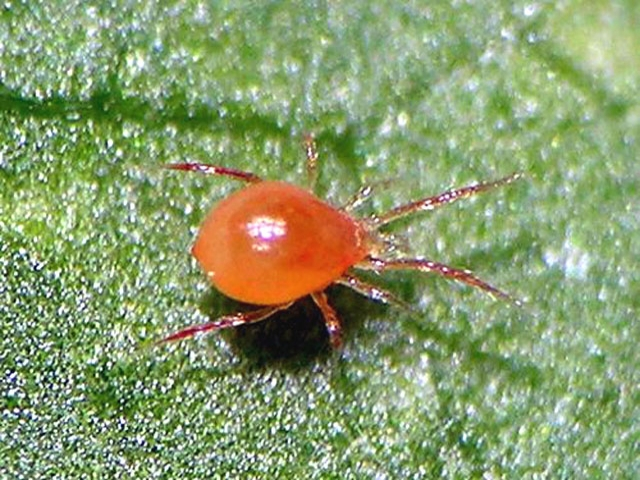Mites: (136, 151, 543, 406)
